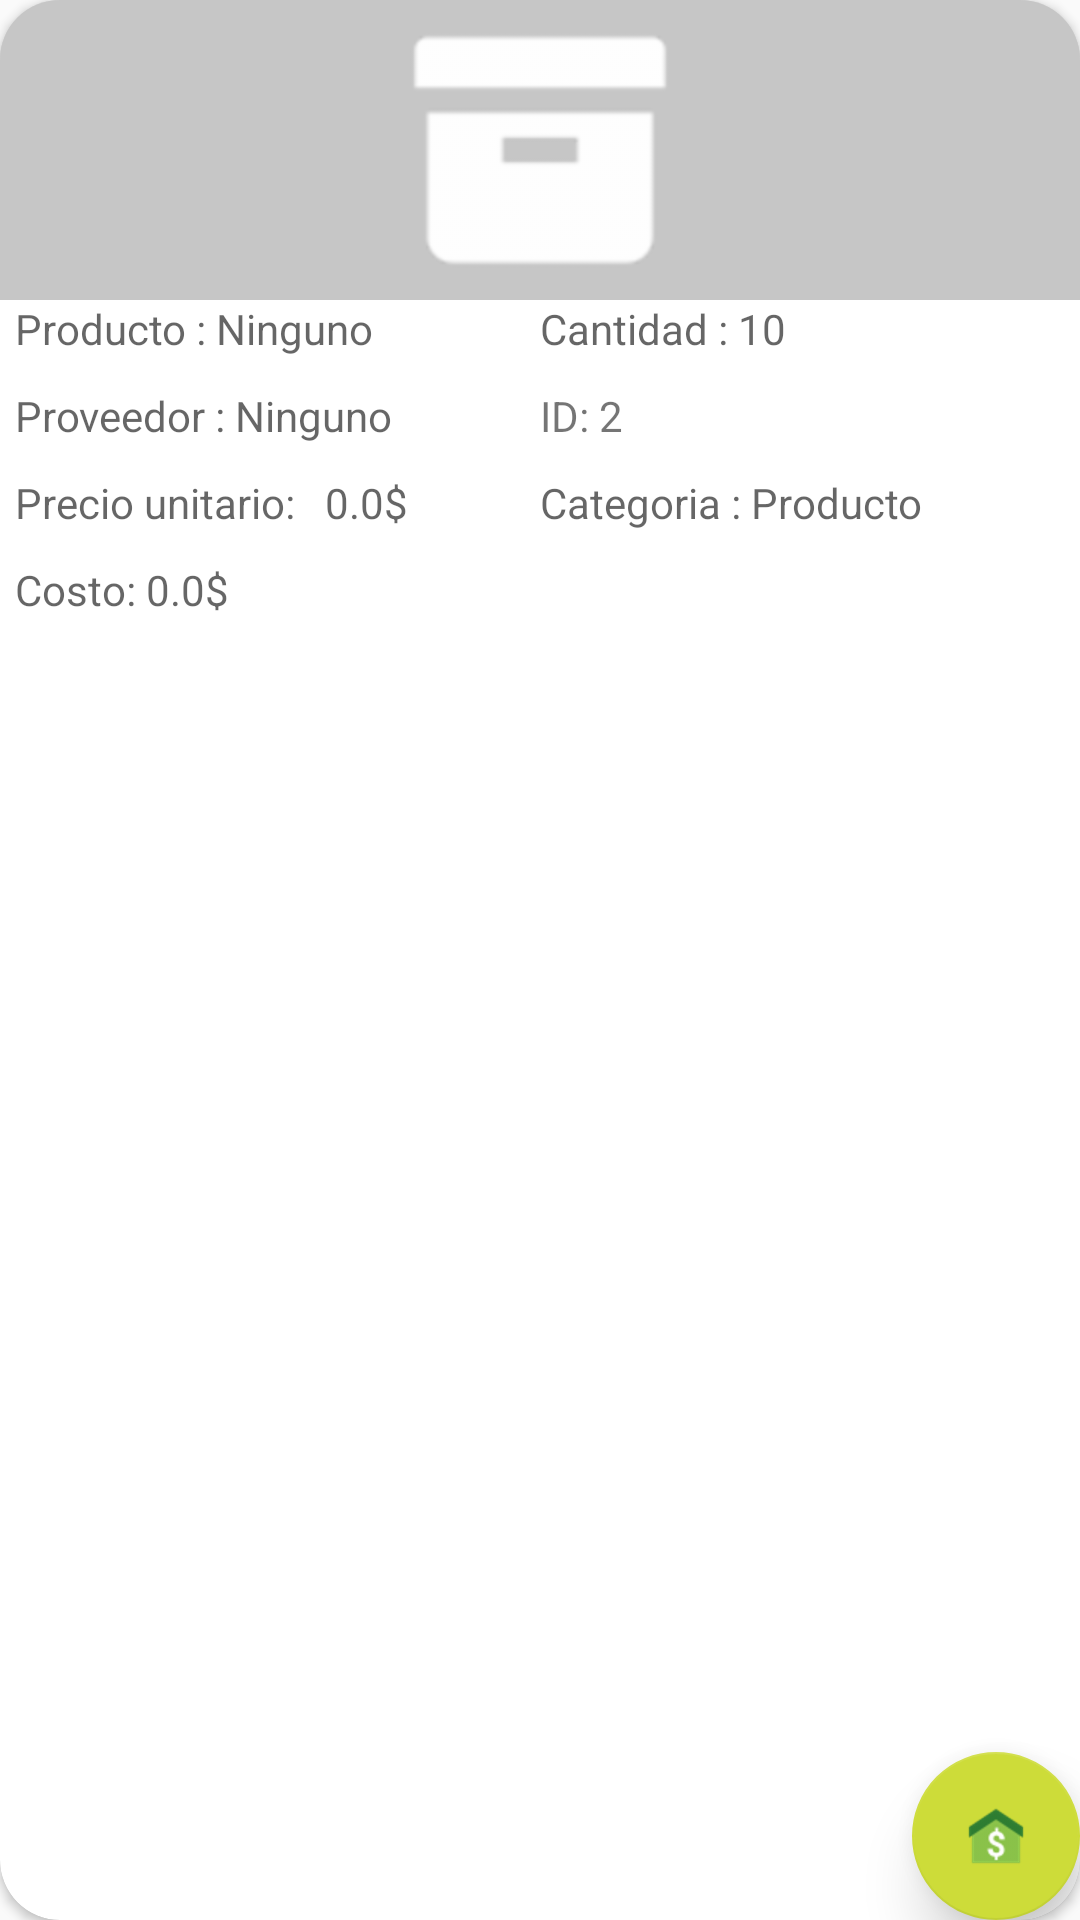

Icon click points for this 1080px x 1920px phone screenshot, format (x,y):
vender propiedad: (996,1836)
